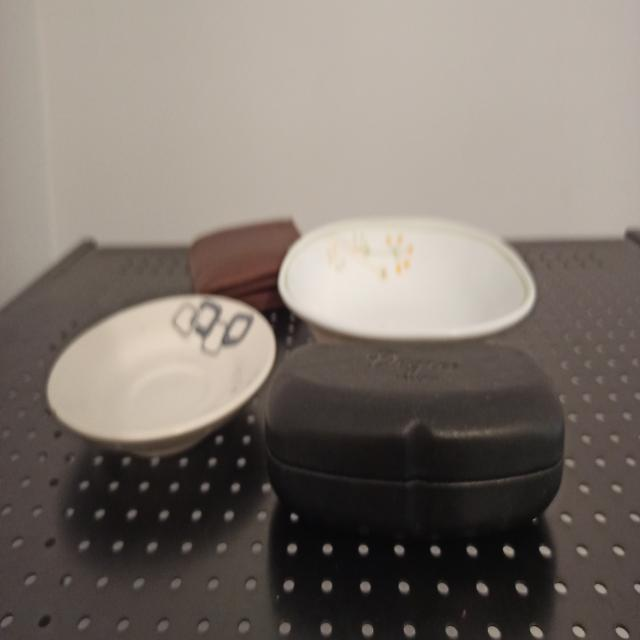non-organic waste: (31, 282, 283, 468), (271, 196, 547, 362)
